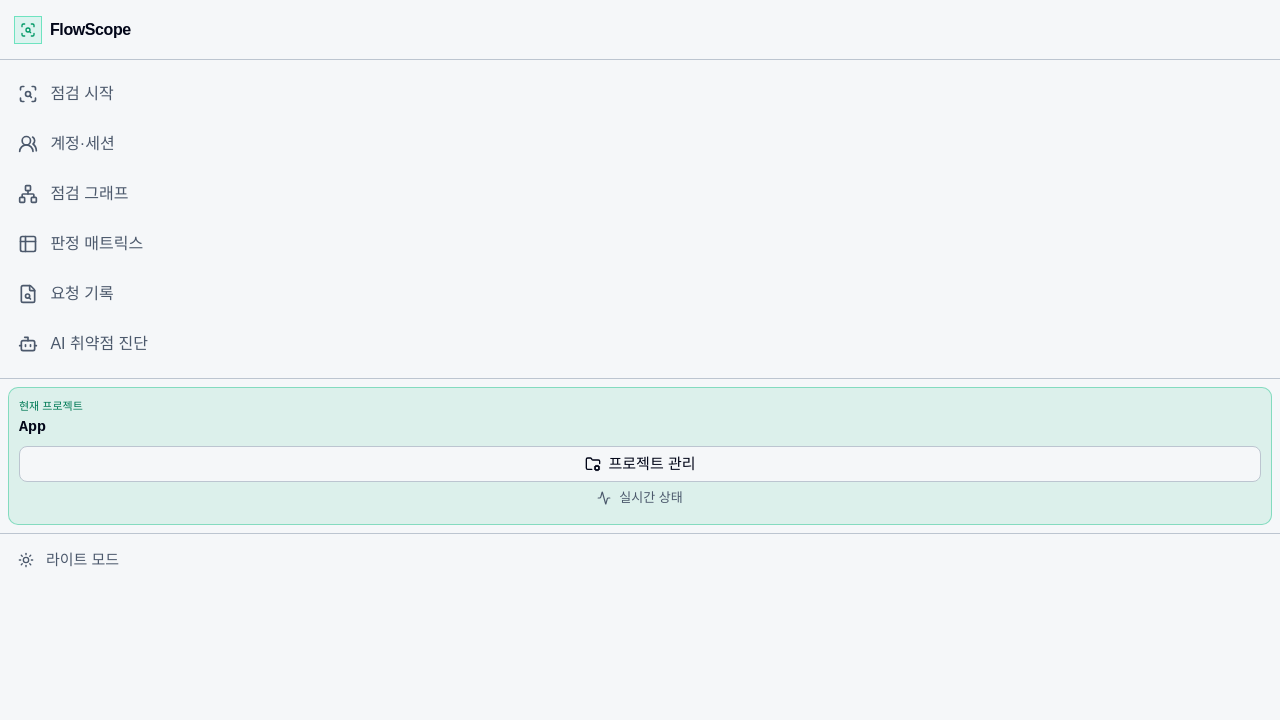
Test case: rejects a duplicate root scope when the stored URL has a trailing slash
The width and height of the screenshot is (1280, 720).
Click the button "프로젝트 관리". click: coordinates (640, 464)
box: [19,446,1261,482]
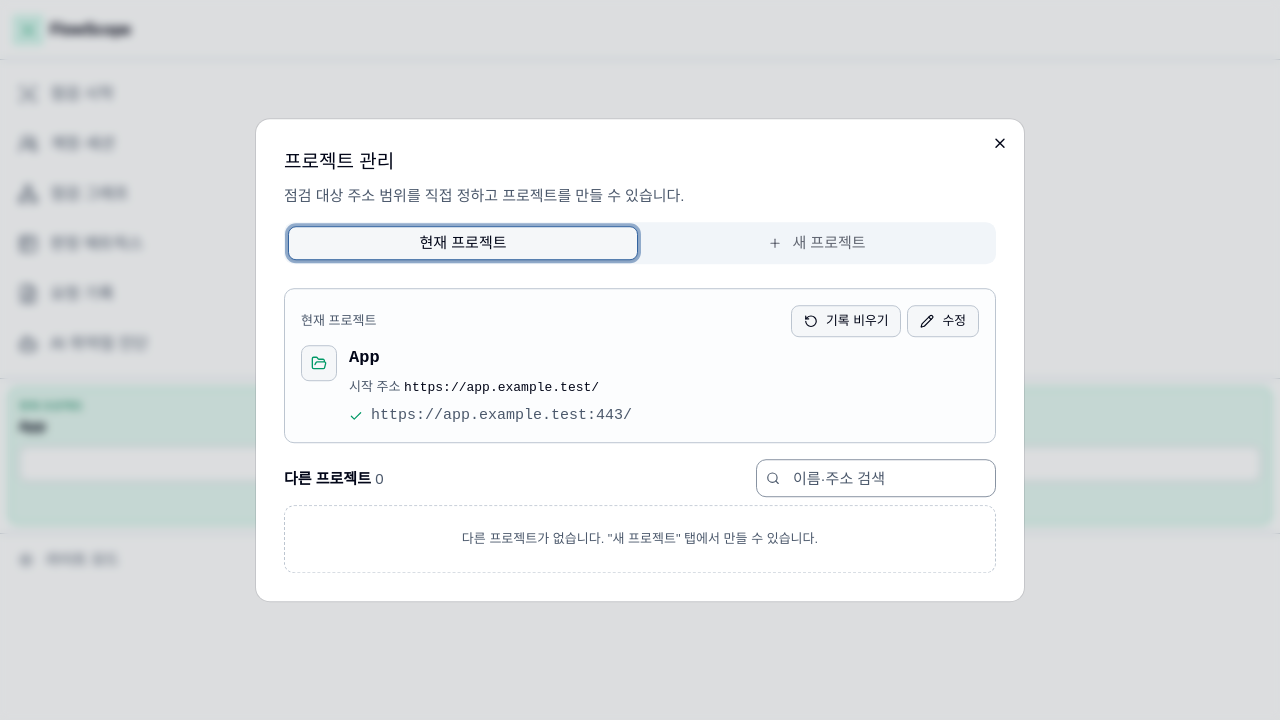
Click the button "수정". click: coordinates (943, 321)
box: [908,305,979,337]
(page scrolled)
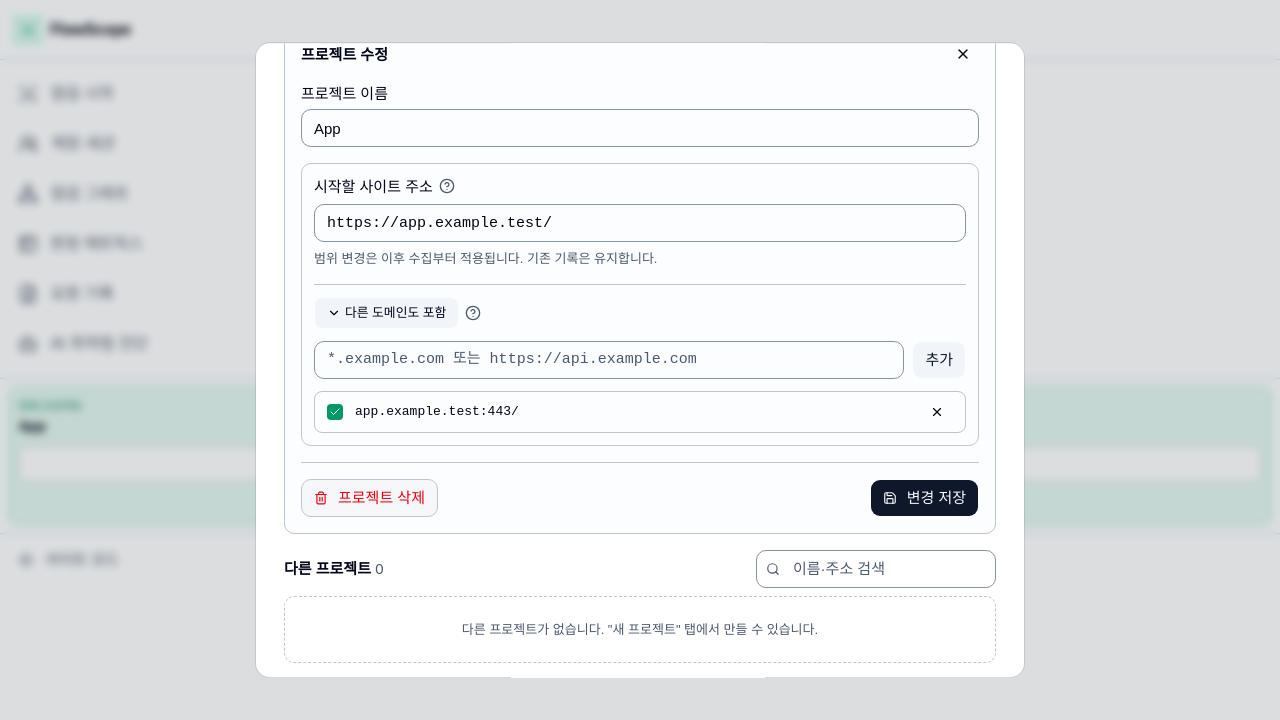
Type "app.example.test" into the field named "추가할 스코프 범위". click: coordinates (609, 360)
box: [314,341,904,379]
Then press Enter
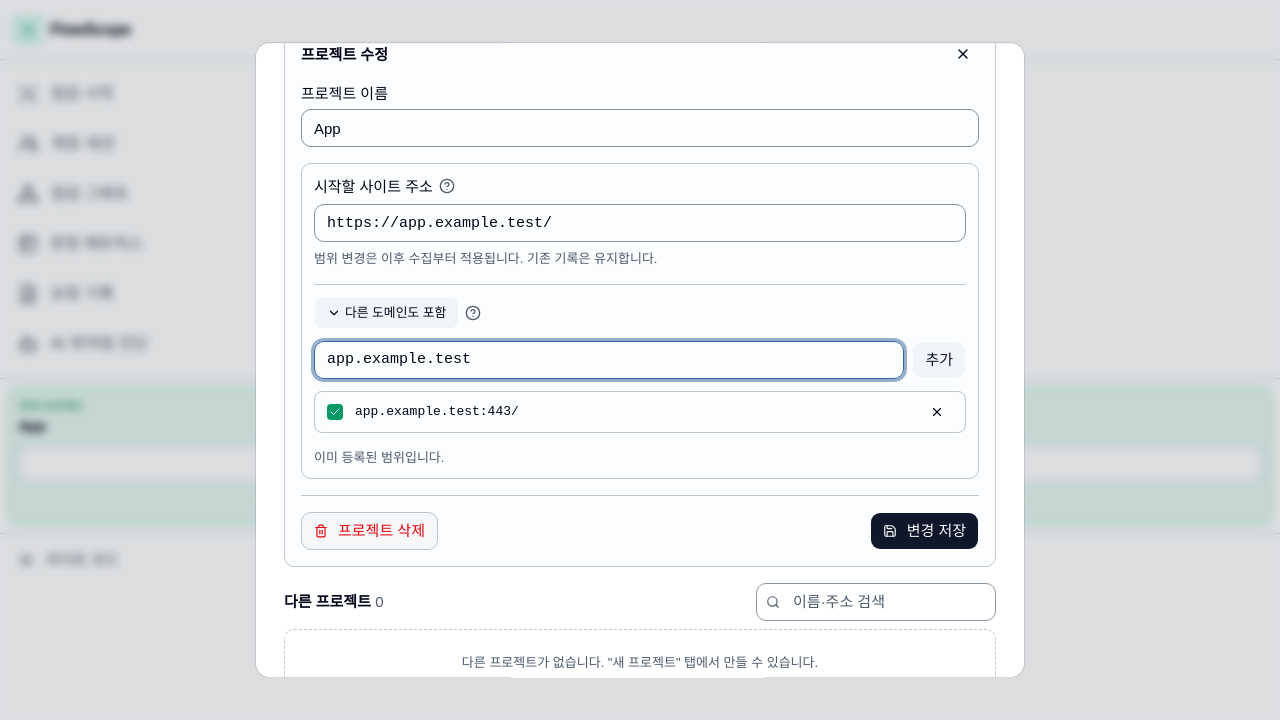
Check: the number of list items is 1, box [315,392,965,432]
Check: the text "이미 등록된 범위입니다." is shown, box [314,450,444,465]
